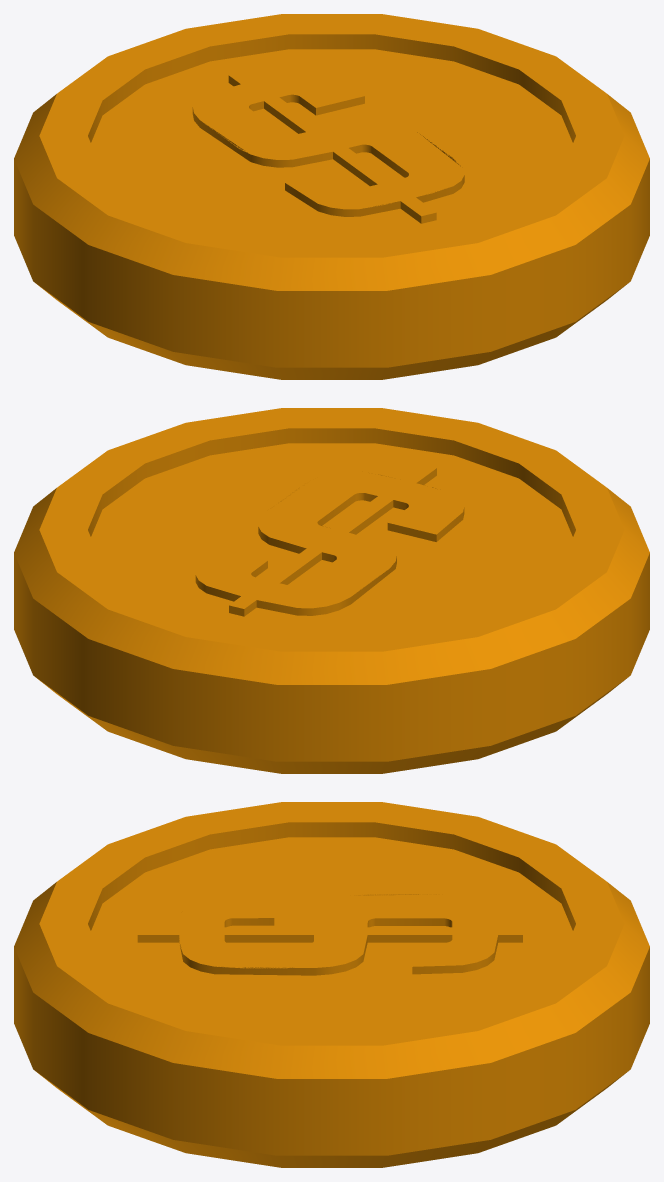
Rendered from coin.glb.
3 views of the same model, one above another, from view 1: azimuth 30°, elevation 25°; view 2: azimuth 150°, elevation 25°; view 3: azimuth 270°, elevation 25° (orthographic).
Parts seen in each view (by area): view 1: Coin_New; view 2: Coin_New; view 3: Coin_New.
Part boxes in pixels (bbox=[...]): Coin_New: bbox=[14, 14, 649, 379]; Coin_New: bbox=[14, 408, 649, 773]; Coin_New: bbox=[14, 802, 649, 1167].
Size of the model in its own units: 1.97 by 0.424 by 2.
